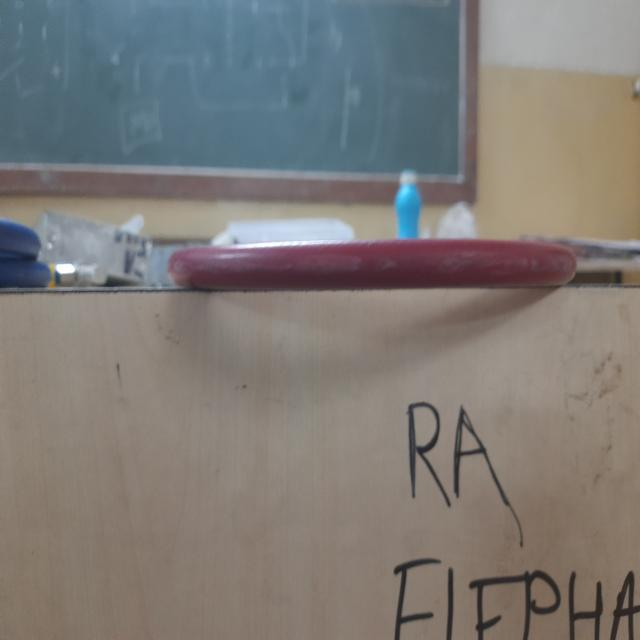daire: (176, 240, 585, 292)
